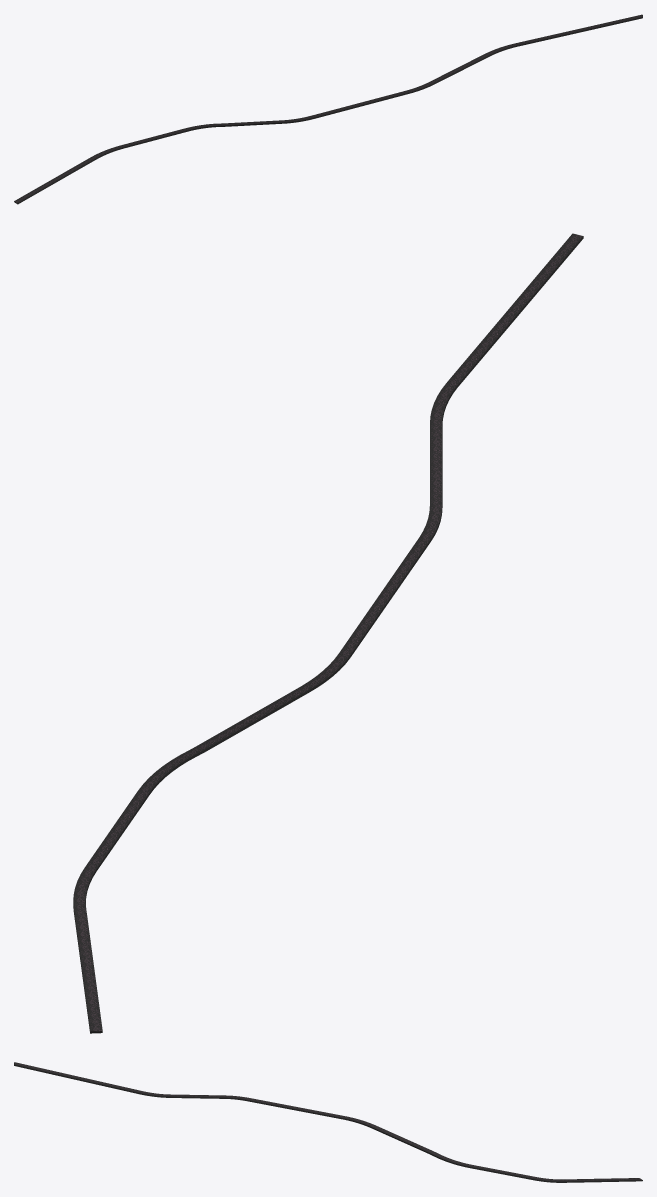
File: Obj_CourseSpring_Road.fbx
3 renders of one model, top to bottom at view 1: azimuth 90°, elevation 25°; view 2: azimuth 150°, elevation 25°; view 3: azimuth 270°, elevation 25°, orthographic. The views are drawn at different scales.
Parts seen in each view (by area): view 1: OBJ_Course; view 2: OBJ_Course; view 3: OBJ_Course.
Boxes of the visible parts, bbox=[...] form: OBJ_Course: bbox=[14, 14, 642, 204]; OBJ_Course: bbox=[73, 233, 583, 1033]; OBJ_Course: bbox=[14, 1062, 642, 1182].
Bounding box in the file's own units: 68.27 × 128 × 479.
1 material, 1 textured.
